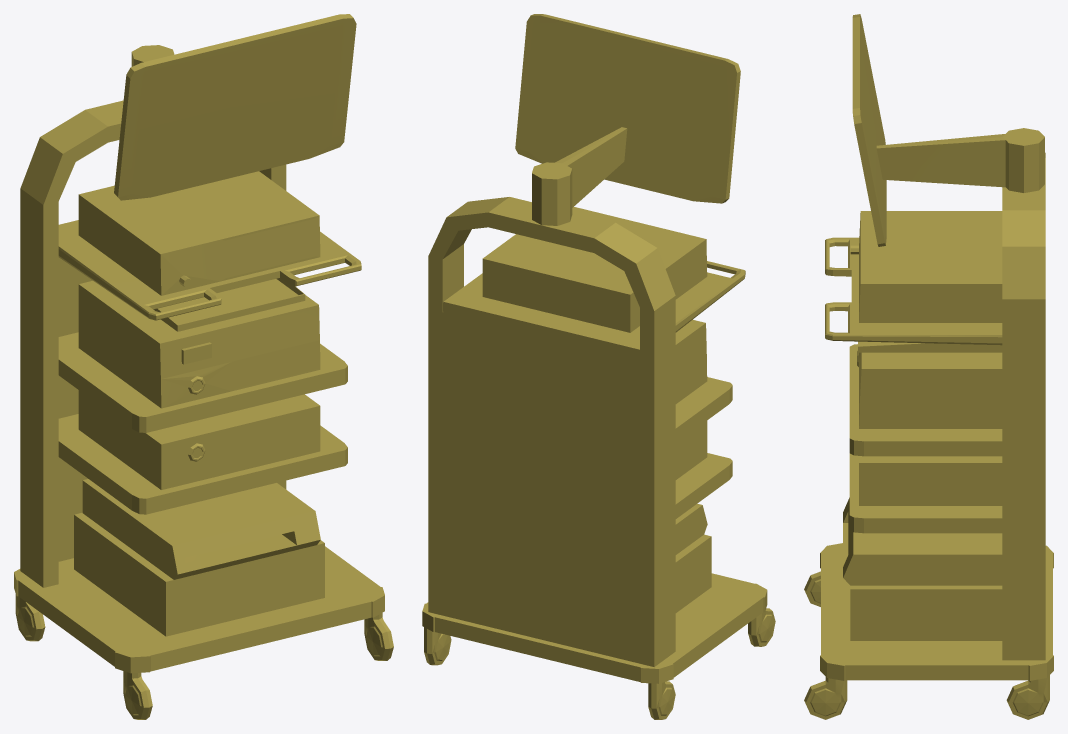
File: device_1.dae
The picture shows the model from 3 angles, left to right: view 1: azimuth 30°, elevation 25°; view 2: azimuth 150°, elevation 25°; view 3: azimuth 270°, elevation 25°; orthographic projection. The views are drawn at different scales.
Parts seen in each view (by area): view 1: cart_Cube.000; view 2: cart_Cube.000; view 3: cart_Cube.000.
Boxes of the visible parts, box(x1,y1,x2,y2) form: cart_Cube.000: box(14, 14, 393, 719); cart_Cube.000: box(422, 14, 775, 719); cart_Cube.000: box(804, 14, 1053, 719).
Size of the model in its own units: 0.6058 by 0.5196 by 1.38.
